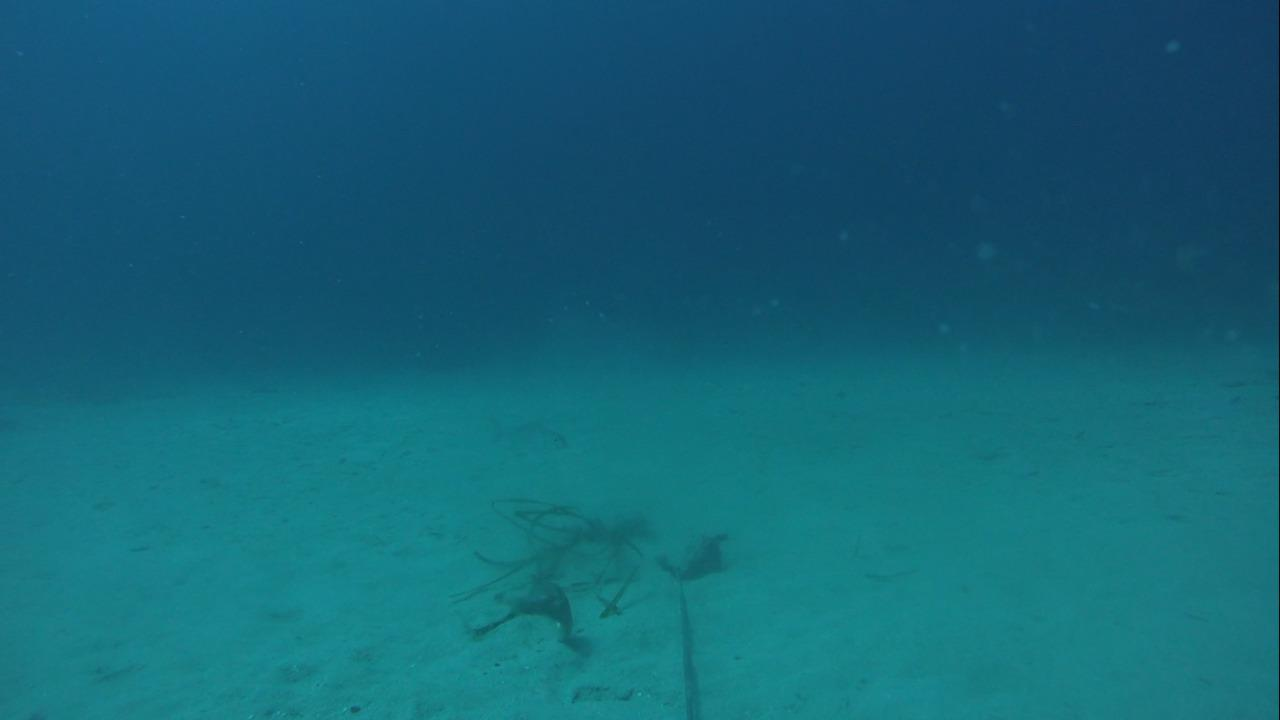raor: (480, 569, 580, 638)
